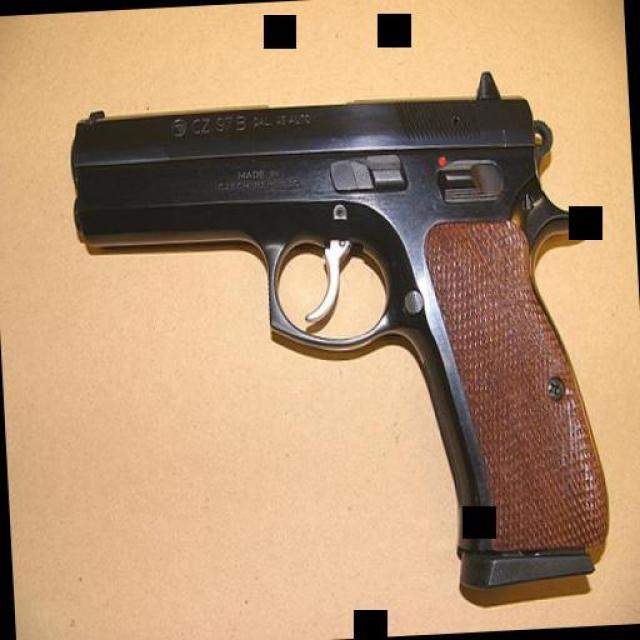gun: (63, 65, 612, 605)
